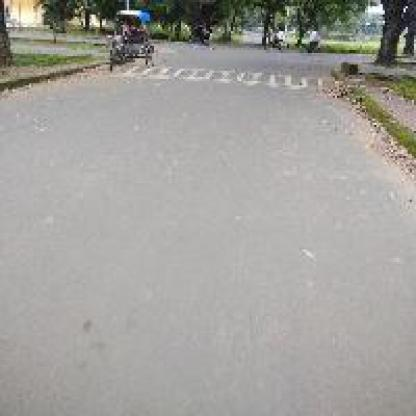Speed Bump: (154, 60, 333, 96)
